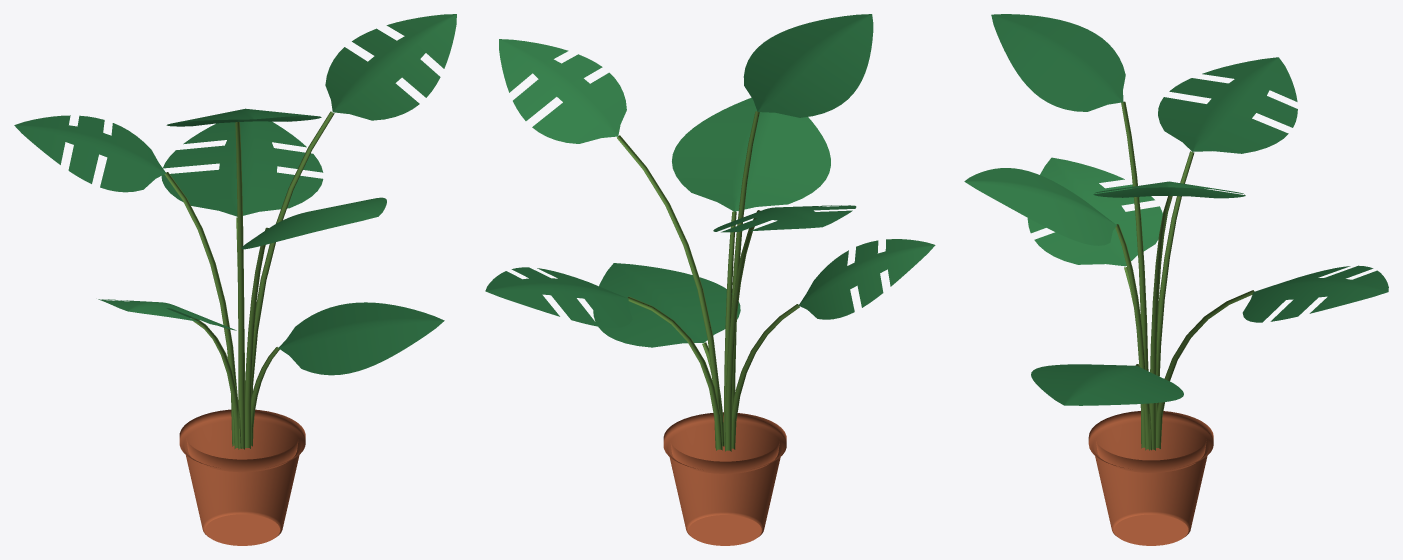
Rendered from monstera_terracotta_L.glb.
The picture shows the model from 3 angles, left to right: view 1: azimuth 30°, elevation 25°; view 2: azimuth 150°, elevation 25°; view 3: azimuth 270°, elevation 25°; orthographic projection. The views are drawn at different scales.
Visible parts, largest first — view 1: Monstera (terracotta, L); view 2: Monstera (terracotta, L); view 3: Monstera (terracotta, L).
Boxes of the visible parts, x1,y1,x2,y2 form: Monstera (terracotta, L): (14, 14, 456, 545); Monstera (terracotta, L): (485, 14, 935, 545); Monstera (terracotta, L): (964, 14, 1388, 545).
Bounding box in the file's own units: 1.05 × 1.25 × 1.
